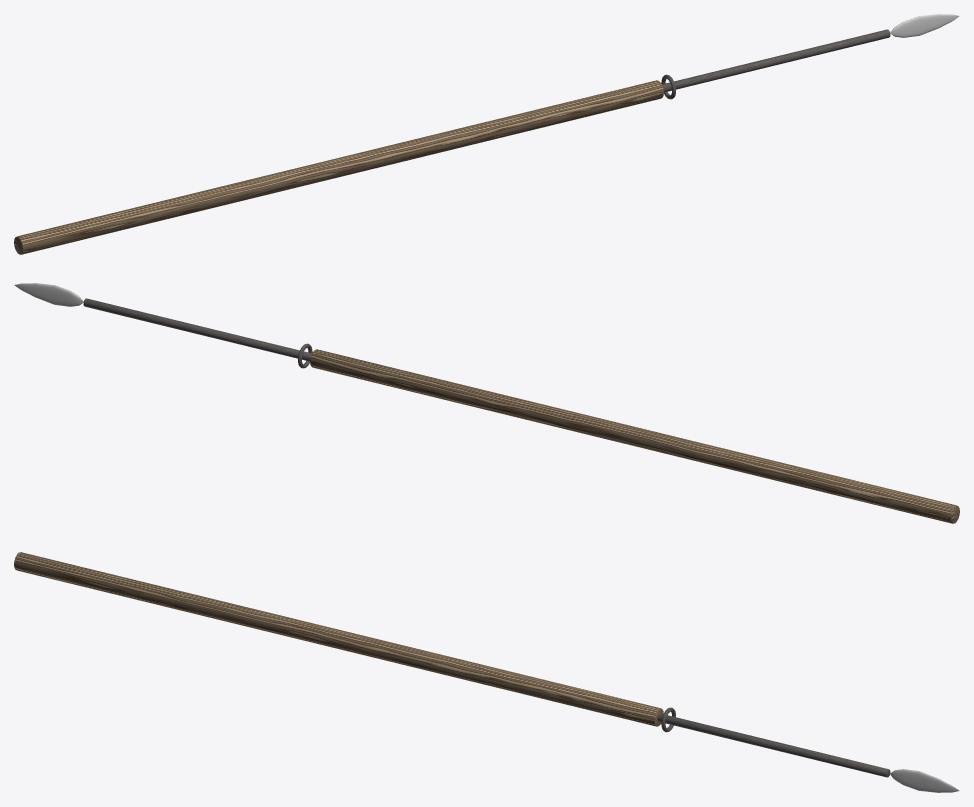
Rendered from lance.glb.
3 renders of one model, top to bottom at view 1: azimuth 30°, elevation 25°; view 2: azimuth 150°, elevation 25°; view 3: azimuth 330°, elevation 25°, orthographic.
Parts seen in each view (by area): view 1: pole, shank, leaf; view 2: pole, shank, leaf; view 3: pole, shank, leaf.
Part boxes in pixels (x1,y1,x2,y2): pole: (14, 80, 663, 254); shank: (662, 29, 890, 92); leaf: (890, 14, 959, 37); pole: (310, 349, 959, 523); shank: (83, 298, 311, 361); leaf: (14, 283, 83, 306); pole: (14, 552, 663, 726); shank: (657, 713, 890, 777); leaf: (890, 769, 959, 792).
Size of the model in its own units: 2.06 by 0.048 by 0.048.
Materials: 1 (1 with a texture image).
